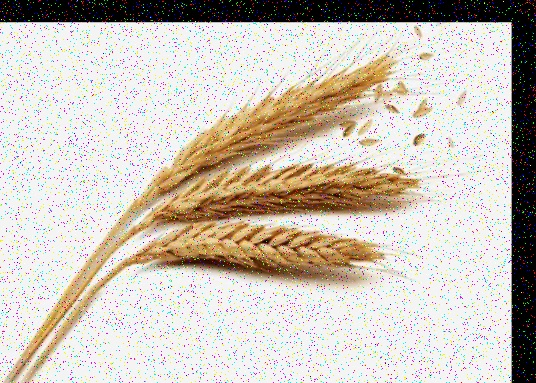wheat: (143, 52, 399, 187), (62, 217, 403, 305), (132, 155, 428, 226)
